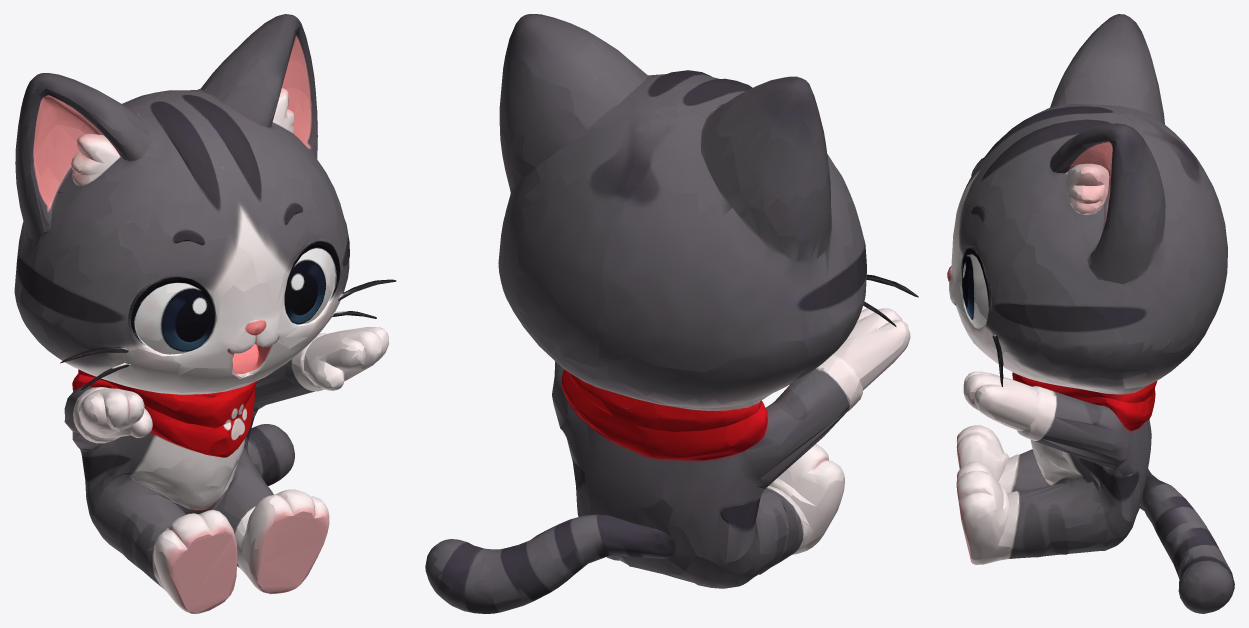
File: kitty.glb
3 renders of one model, left to right at view 1: azimuth 30°, elevation 25°; view 2: azimuth 150°, elevation 25°; view 3: azimuth 270°, elevation 25°, orthographic. The views are drawn at different scales.
Parts seen in each view (by area): view 1: Bandana_Kitty; view 2: Bandana_Kitty; view 3: Bandana_Kitty.
Boxes of the visible parts, left/top/right/bottom form: Bandana_Kitty: left=14, top=14, right=396, bottom=613; Bandana_Kitty: left=425, top=14, right=918, bottom=613; Bandana_Kitty: left=947, top=14, right=1234, bottom=613.
Bounding box in the file's own units: 1.19 × 1.71 × 0.9313.
Materials: 1 (1 with a texture image).
